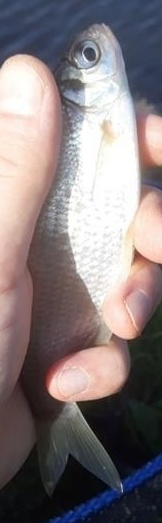Blicca bjoerkna: (20, 20, 142, 503)
